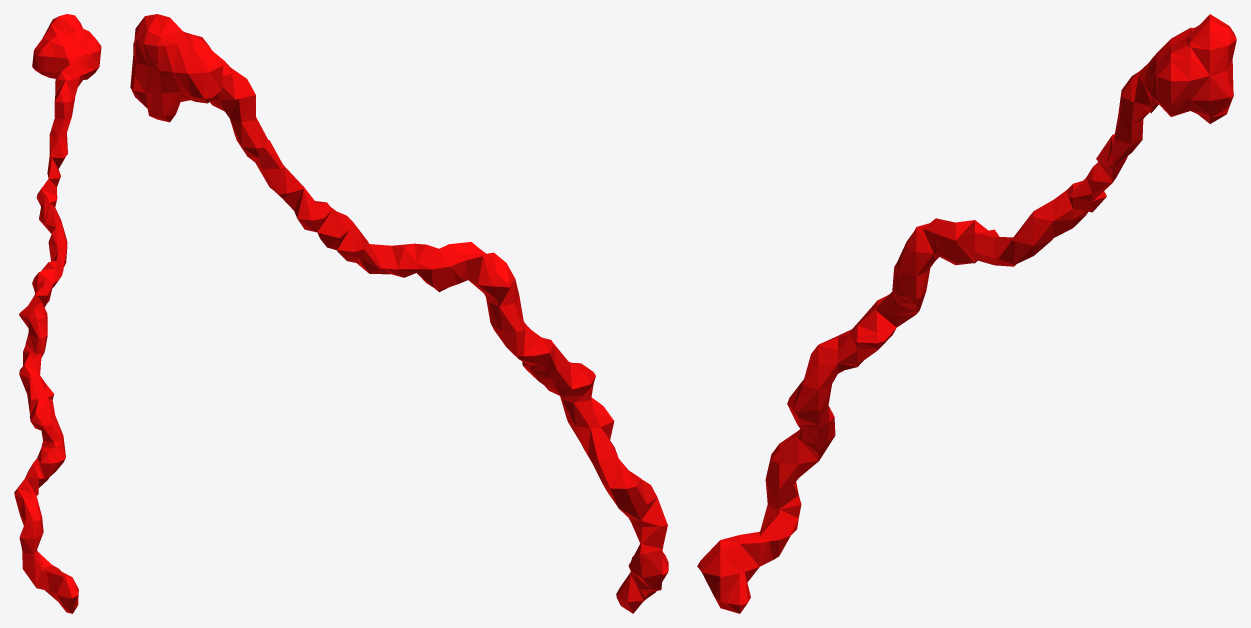
The model's file is hns_coarse.dae.
3 views of the same model, side by side, from view 1: azimuth 30°, elevation 25°; view 2: azimuth 150°, elevation 25°; view 3: azimuth 270°, elevation 25° (orthographic). The views are drawn at different scales.
Parts seen in each view (by area): view 1: hns; view 2: hns; view 3: hns.
Part boxes in pixels (box(x1,y1,x2,y2)): hns: box(14, 14, 101, 613); hns: box(130, 14, 668, 613); hns: box(697, 14, 1236, 613).
Bounding box in the file's own units: 103 × 216 × 149.
